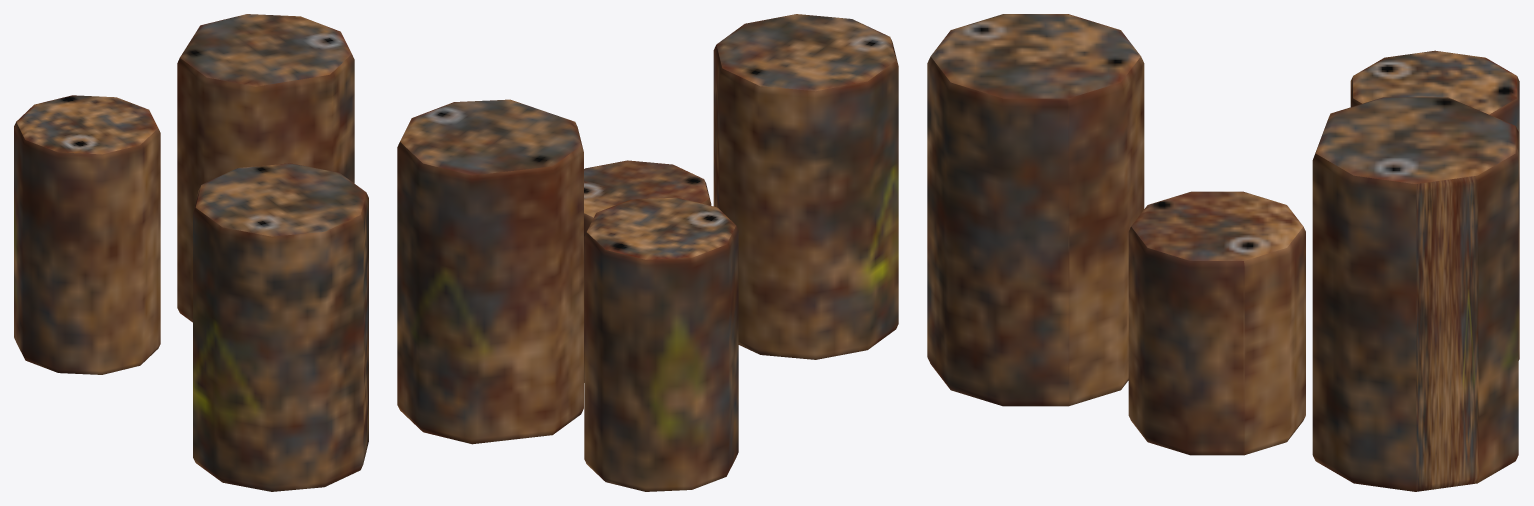
The model's file is Nuclear_Barrels.fbx.
3 renders of one model, left to right at view 1: azimuth 30°, elevation 25°; view 2: azimuth 150°, elevation 25°; view 3: azimuth 270°, elevation 25°, orthographic. The views are drawn at different scales.
Visible parts, largest first — view 1: Barrels Nuclear; view 2: Barrels Nuclear; view 3: Barrels Nuclear.
Boxes of the visible parts, x1,y1,x2,y2 form: Barrels Nuclear: (14,14,368,491); Barrels Nuclear: (397,14,898,491); Barrels Nuclear: (927,14,1519,491).
Bounding box in the file's own units: 298 × 242 × 407.
Materials: 1 (1 with a texture image).
